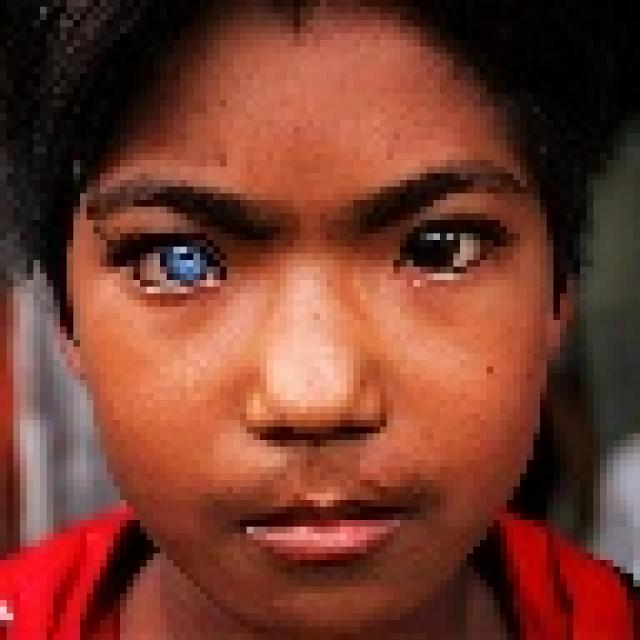angry: (57, 28, 547, 634)
